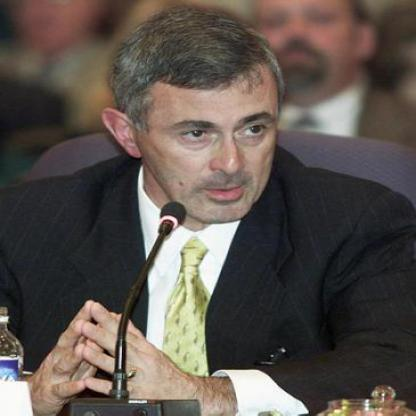face: (135, 28, 288, 225), (251, 1, 360, 93)
